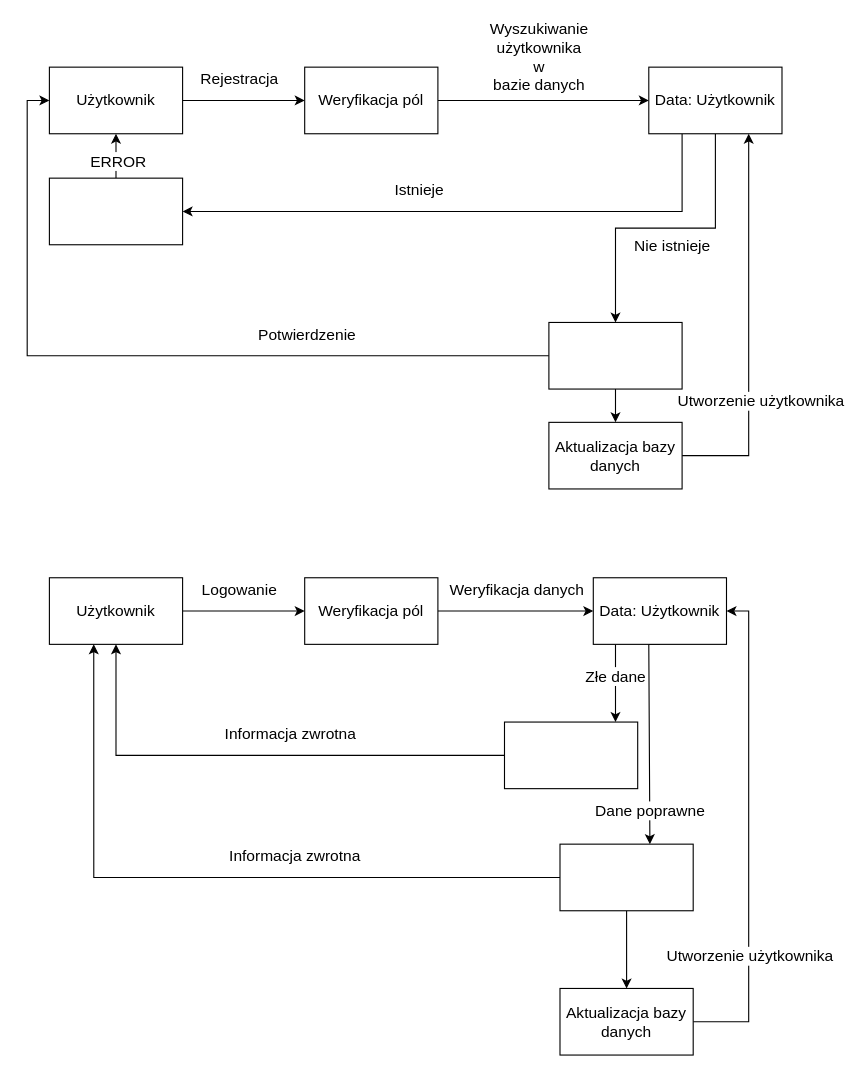
Some shapes in this 862 by 1074 pixel diagram are drawn without their labels. Here are the shapes that lost their labels. From the top down, the centre of each, then its label:
At pixel 115 211: "Error Wyświetl komunikat".
At pixel 615 355: "Potwierdź utworzenie użytkownika".
At pixel 570 755: "Błędne dane/Logowanie nieudane".
At pixel 626 877: "Autoryzacja logowania".
